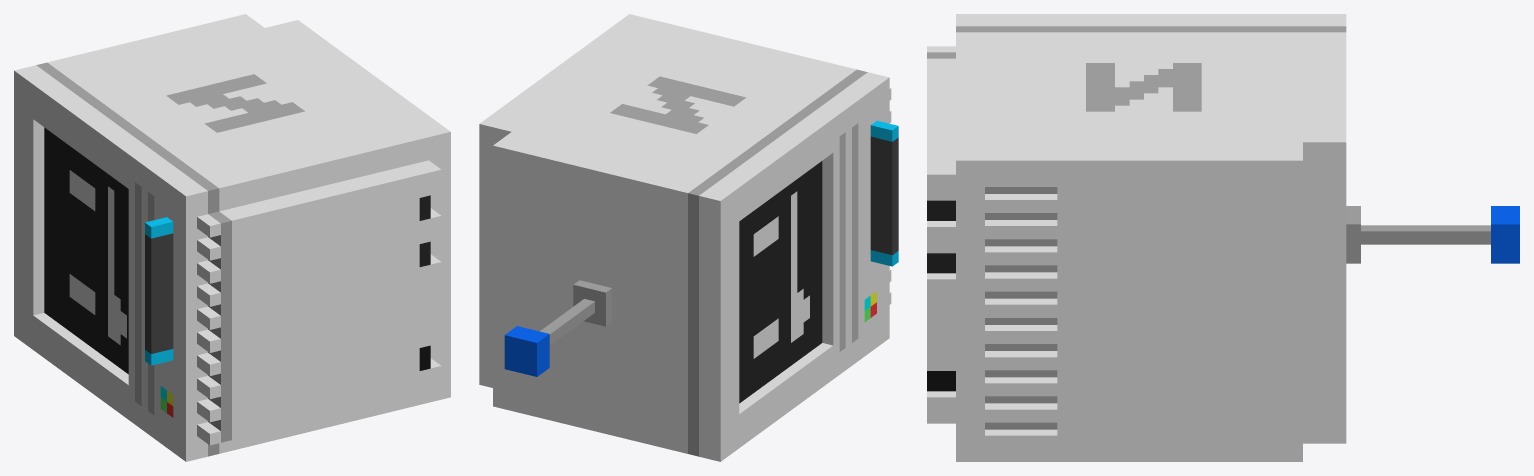
The model's file is Computer_Box.obj.
3 renders of one model, left to right at view 1: azimuth 30°, elevation 25°; view 2: azimuth 150°, elevation 25°; view 3: azimuth 270°, elevation 25°, orthographic. The views are drawn at different scales.
Visible parts, largest first — view 1: Computer_Box; view 2: Computer_Box; view 3: Computer_Box.
Part boxes in pixels (x1=…): Computer_Box: x1=14, y1=14, x2=450, y2=461; Computer_Box: x1=479, y1=14, x2=898, y2=461; Computer_Box: x1=927, y1=14, x2=1519, y2=461.
Size of the model in its own units: 2.6 by 2.3 by 4.1.
